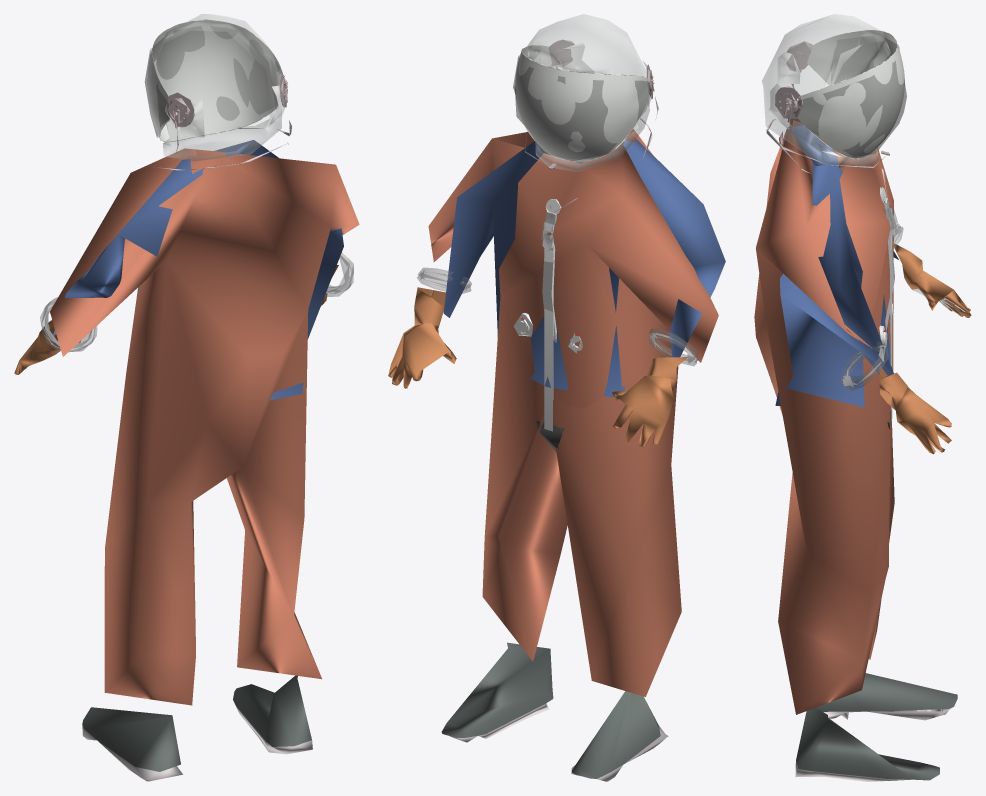
File: space-advanced-crew-escape-suit.glb
3 views of the same model, side by side, from view 1: azimuth 30°, elevation 25°; view 2: azimuth 150°, elevation 25°; view 3: azimuth 270°, elevation 25° (orthographic). The views are drawn at different scales.
Visible parts, largest first — view 1: Advanced Crew Escape Suit; view 2: Advanced Crew Escape Suit; view 3: Advanced Crew Escape Suit.
Part boxes in pixels (left/top/right/bottom): Advanced Crew Escape Suit: left=14, top=14, right=359, bottom=781; Advanced Crew Escape Suit: left=388, top=14, right=725, bottom=781; Advanced Crew Escape Suit: left=754, top=14, right=971, bottom=781.
Bounding box in the file's own units: 0.8684 × 1.99 × 0.542.
Materials: 2 (2 with a texture image).
